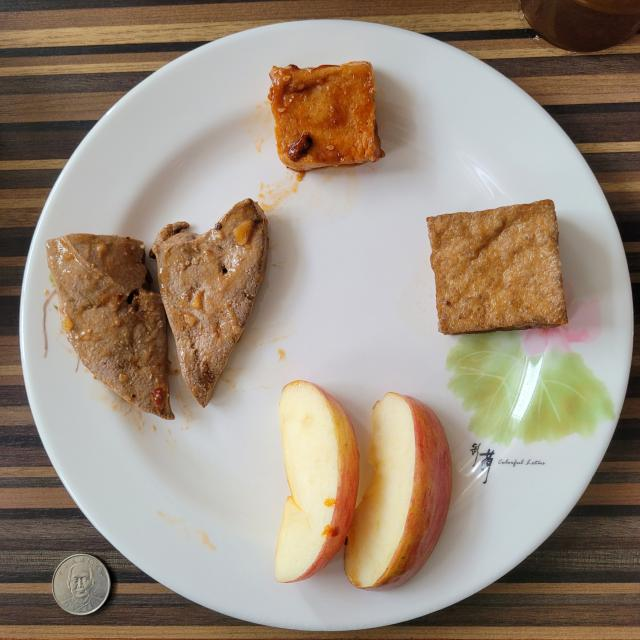apple -sliced-: (275, 380, 452, 590)
coin: (51, 554, 110, 615)
creamy tofu: (269, 61, 385, 171)
egg tofu: (426, 200, 568, 334)
pig liver: (46, 199, 269, 419)
